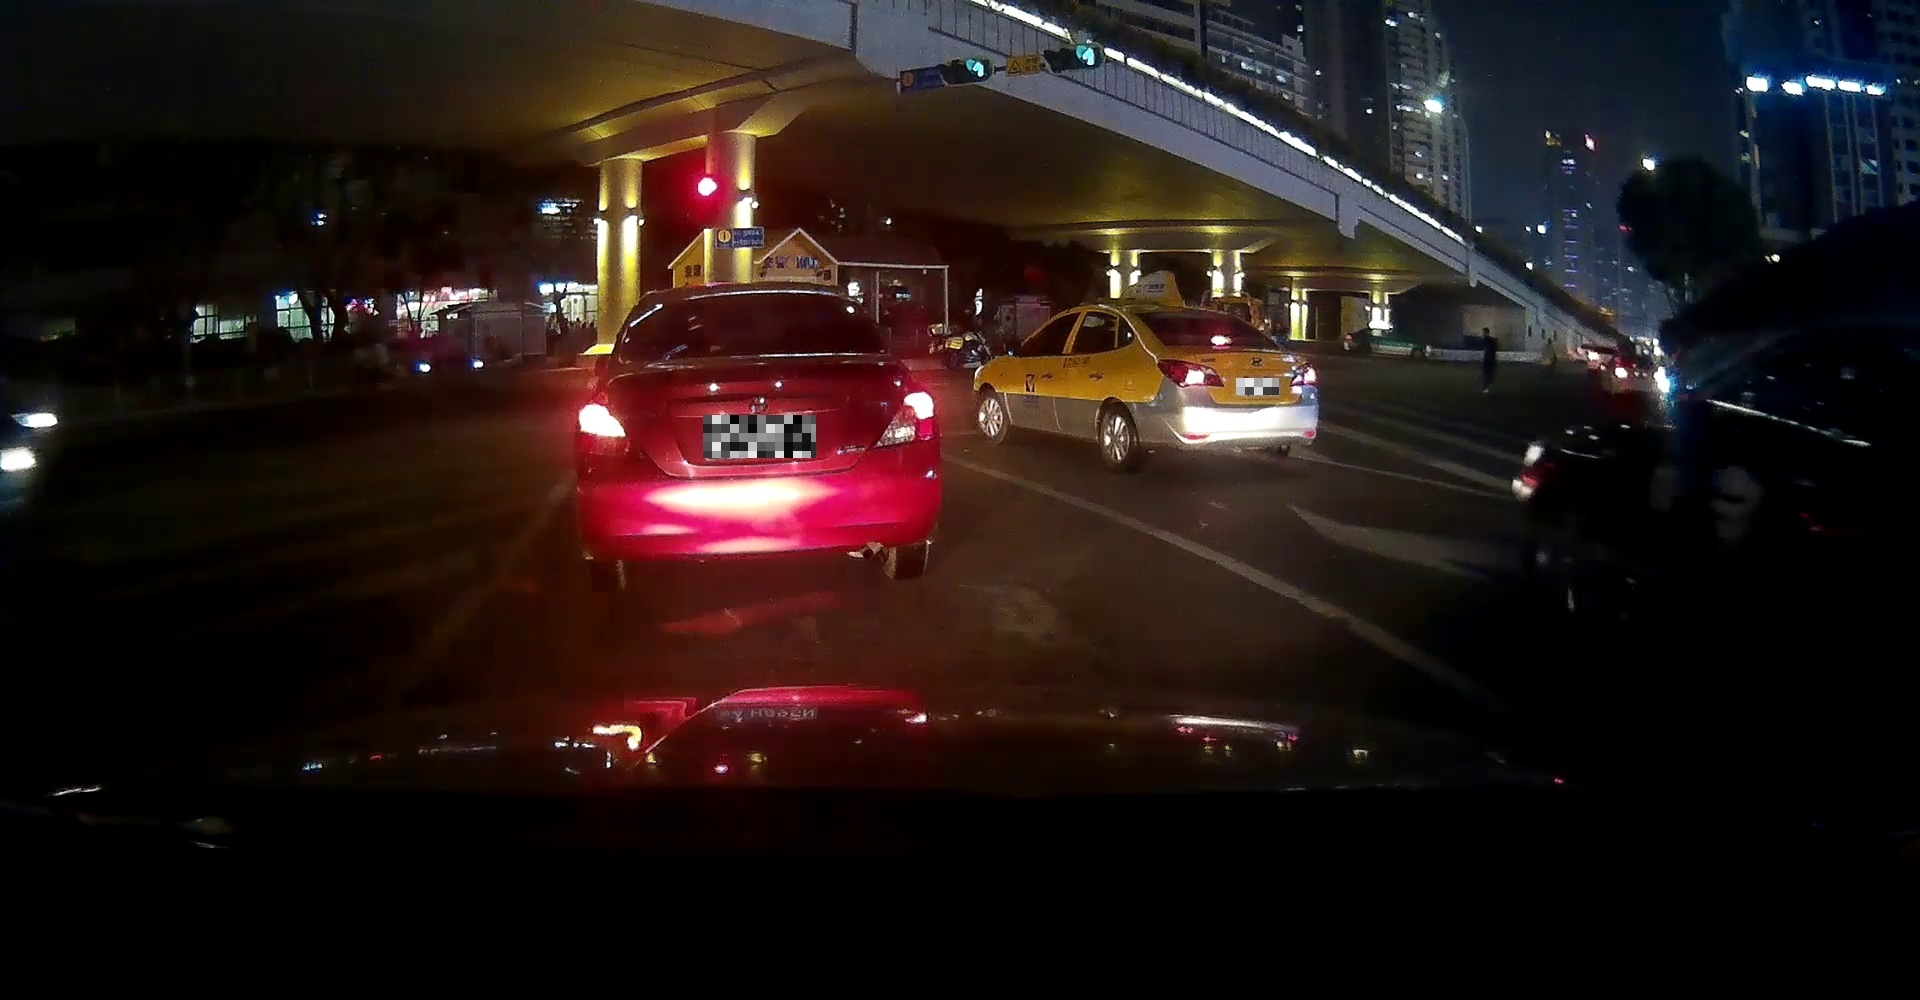L_light: (577, 398, 649, 458), (1158, 358, 1225, 387)
R_light: (872, 390, 935, 445), (1288, 360, 1318, 386)
T_light: (731, 294, 776, 303), (1210, 336, 1232, 345)
night-brake: (1133, 302, 1319, 468)
night-no: (574, 275, 949, 586)
plate_1: (703, 415, 817, 458)
plate_2: (1236, 378, 1279, 395)
